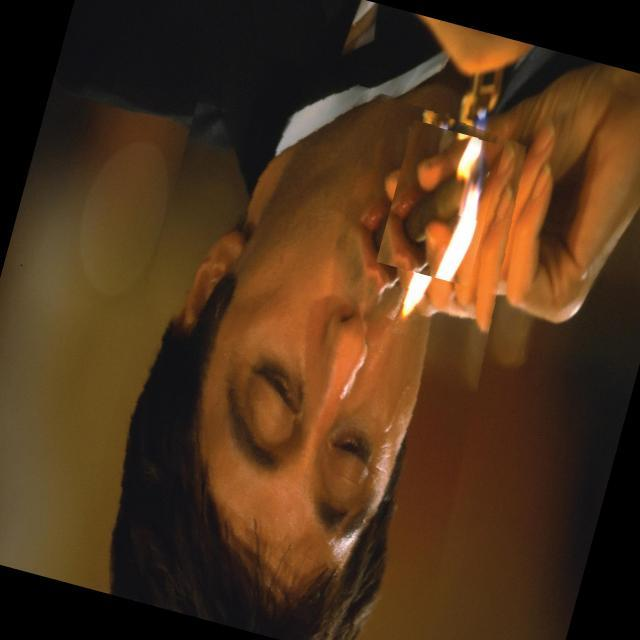cigarette: (376, 120, 506, 288)
